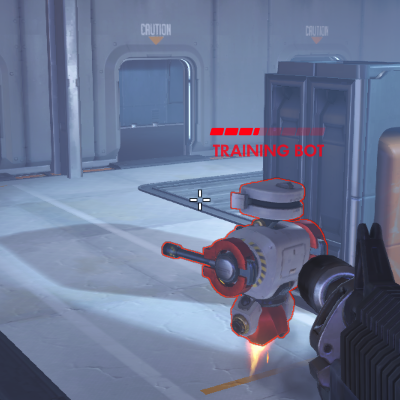hpbar: (209, 127, 326, 136)
